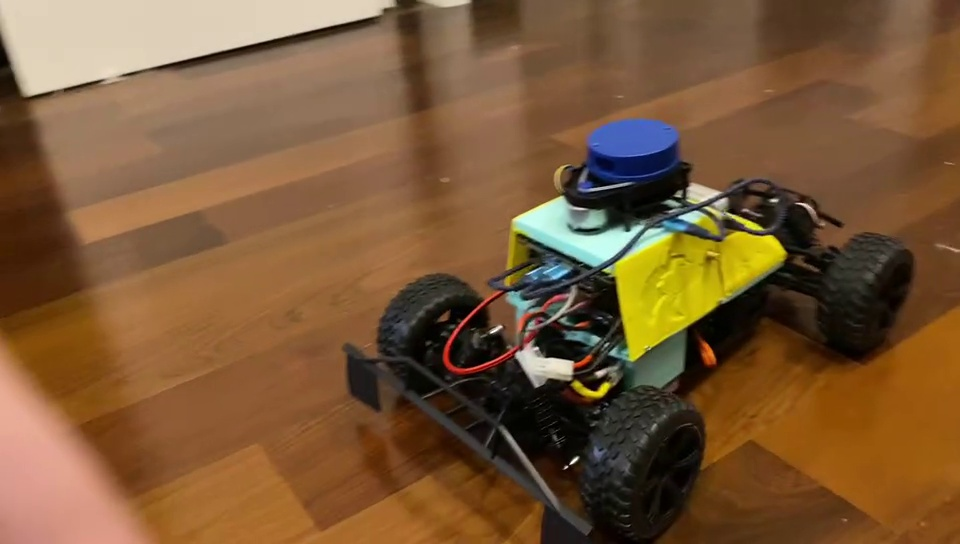mushr_car: (333, 115, 914, 538)
